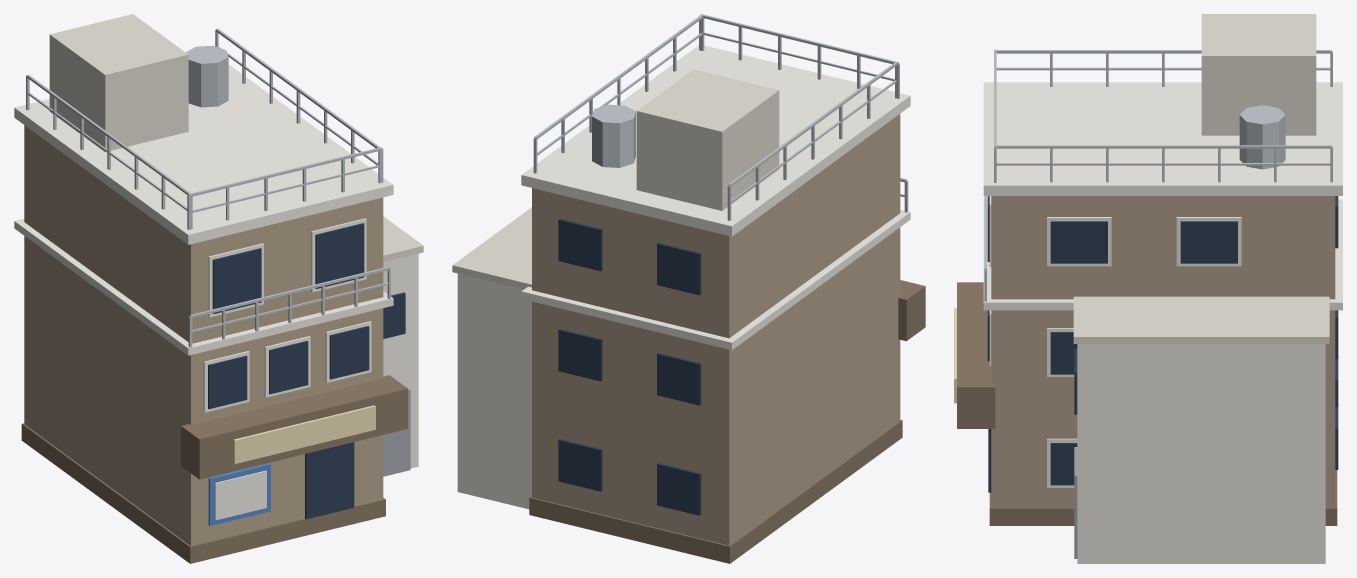
File: LM_Barangay3Hall.glb
The picture shows the model from 3 angles, left to right: view 1: azimuth 30°, elevation 25°; view 2: azimuth 150°, elevation 25°; view 3: azimuth 270°, elevation 25°; orthographic projection. The views are drawn at different scales.
Visible parts, largest first — view 1: LM_Barangay3Hall; view 2: LM_Barangay3Hall; view 3: LM_Barangay3Hall.
Boxes of the visible parts, x1,y1,x2,y2 form: LM_Barangay3Hall: [14, 14, 423, 563]; LM_Barangay3Hall: [452, 14, 925, 563]; LM_Barangay3Hall: [954, 14, 1342, 563].
Size of the model in its own units: 8.75 by 12.2 by 10.18.
